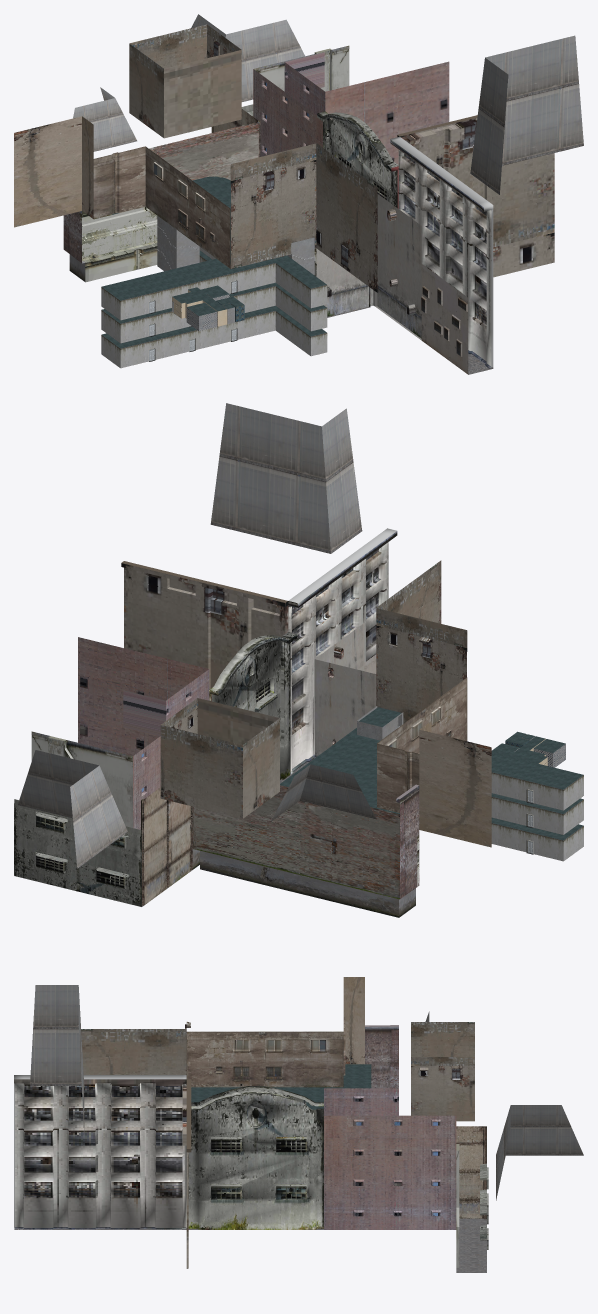
The model's file is Cinematica.fbx.
3 views of the same model, one above another, from view 1: azimuth 30°, elevation 25°; view 2: azimuth 150°, elevation 25°; view 3: azimuth 270°, elevation 25° (orthographic). The views are drawn at different scales.
Visible parts, largest first — view 1: ESCENARIO 1; view 2: ESCENARIO 1; view 3: ESCENARIO 1.
Part boxes in pixels (box(x1,y1,x2,y2)): ESCENARIO 1: box(14, 14, 583, 374); ESCENARIO 1: box(14, 403, 583, 917); ESCENARIO 1: box(14, 977, 583, 1272).
Size of the model in its own units: 9281 by 5733 by 11204.
